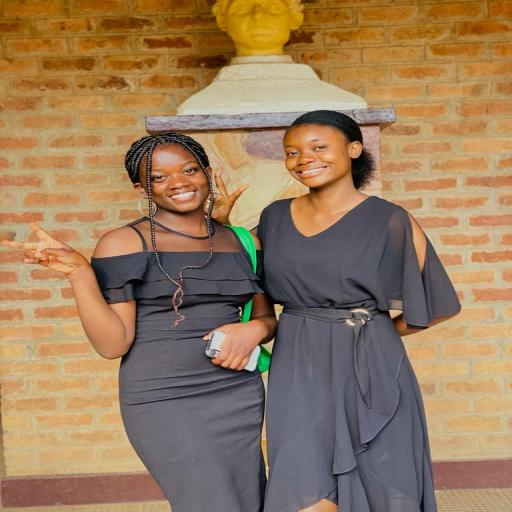LAURENE: (117, 135, 220, 231)
